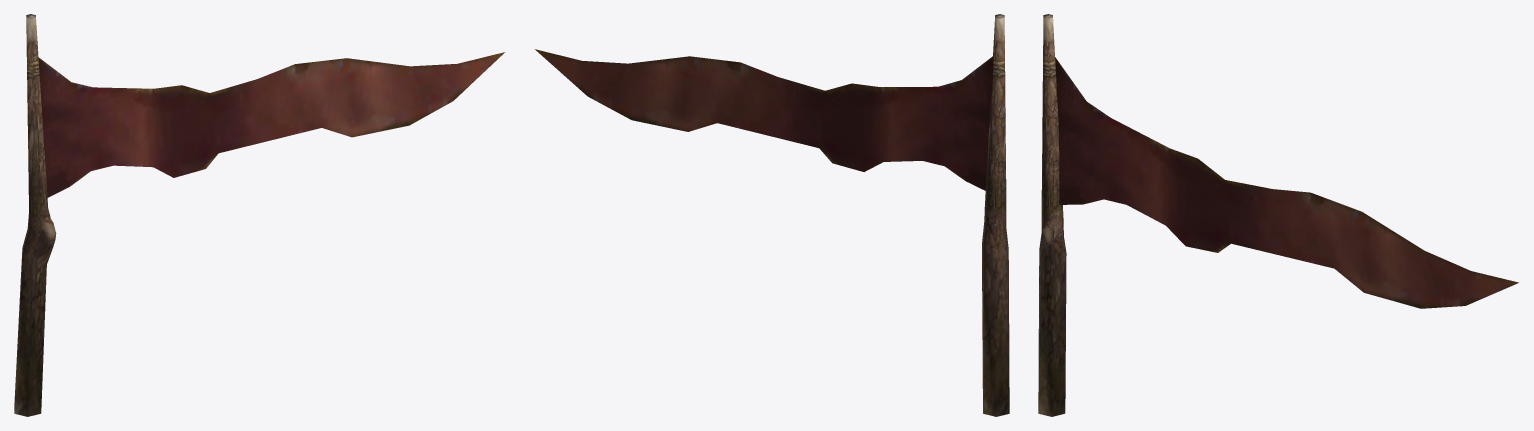
File: SC001Jwujian_47.FBX
The picture shows the model from 3 angles, left to right: view 1: azimuth 30°, elevation 25°; view 2: azimuth 150°, elevation 25°; view 3: azimuth 330°, elevation 25°; orthographic projection.
Parts seen in each view (by area): view 1: SC001Jwujian_47; view 2: SC001Jwujian_47; view 3: SC001Jwujian_47.
Boxes of the visible parts, left/top/right/bottom form: SC001Jwujian_47: left=14, top=14, right=504, bottom=416; SC001Jwujian_47: left=535, top=14, right=1009, bottom=416; SC001Jwujian_47: left=1038, top=14, right=1518, bottom=416.
Size of the model in its own units: 3.16 by 2.46 by 0.2494.
